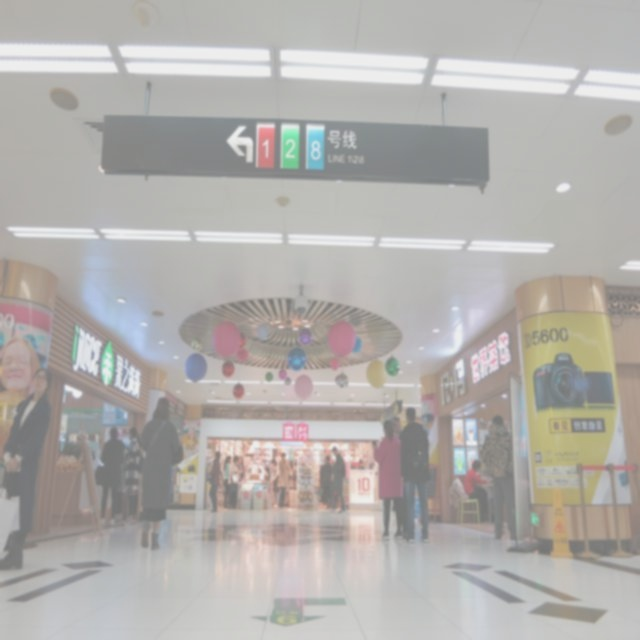pessoa: (0, 364, 55, 570), (140, 394, 184, 550), (478, 413, 518, 541), (398, 406, 430, 544), (370, 418, 404, 542), (99, 426, 127, 528), (0, 336, 40, 404), (120, 424, 142, 526), (461, 457, 493, 524), (330, 446, 348, 514), (206, 449, 222, 514), (58, 431, 74, 495), (276, 451, 292, 508), (228, 454, 241, 509), (321, 455, 334, 510), (67, 429, 88, 461), (268, 456, 280, 509), (222, 454, 232, 510), (290, 458, 300, 502), (389, 415, 403, 439), (319, 456, 326, 503), (184, 428, 199, 446), (236, 456, 246, 482), (349, 458, 364, 469), (284, 488, 290, 507), (57, 440, 61, 454)
